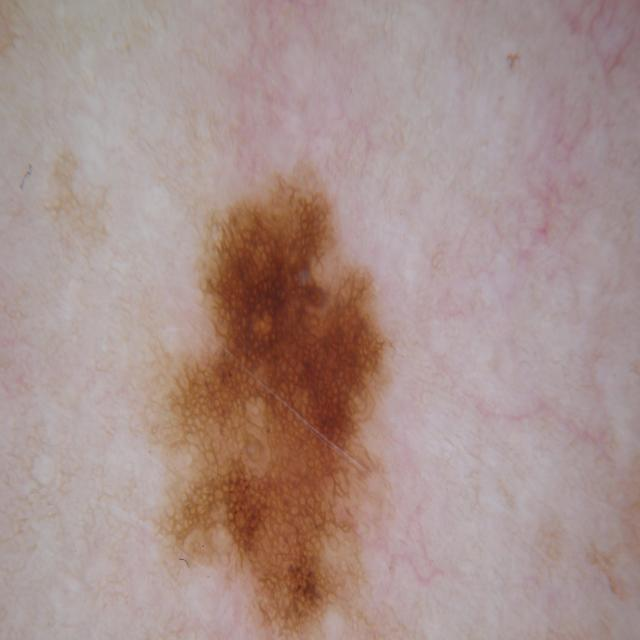Melanoma: (148, 152, 449, 640)
